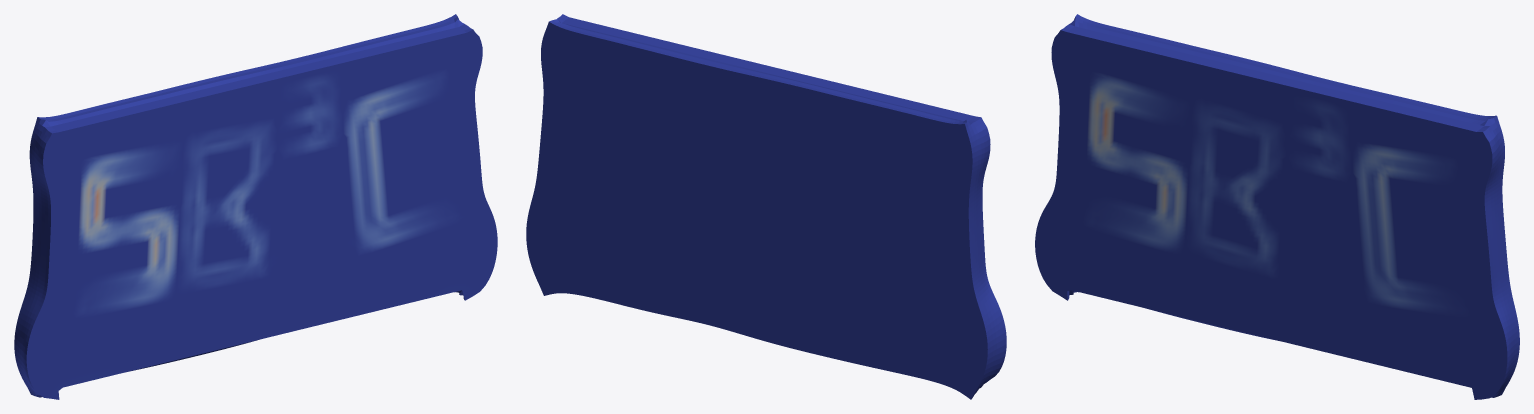
Rendered from log.glb.
3 renders of one model, left to right at view 1: azimuth 30°, elevation 25°; view 2: azimuth 150°, elevation 25°; view 3: azimuth 330°, elevation 25°, orthographic.
Parts seen in each view (by area): view 1: logo_20; view 2: logo_20; view 3: logo_20.
Boxes of the visible parts, box(x1,y1,x2,y2) form: logo_20: box(14, 14, 497, 399); logo_20: box(526, 14, 1006, 399); logo_20: box(1035, 14, 1519, 399).
Size of the model in its own units: 1.73 by 0.9741 by 0.1.
